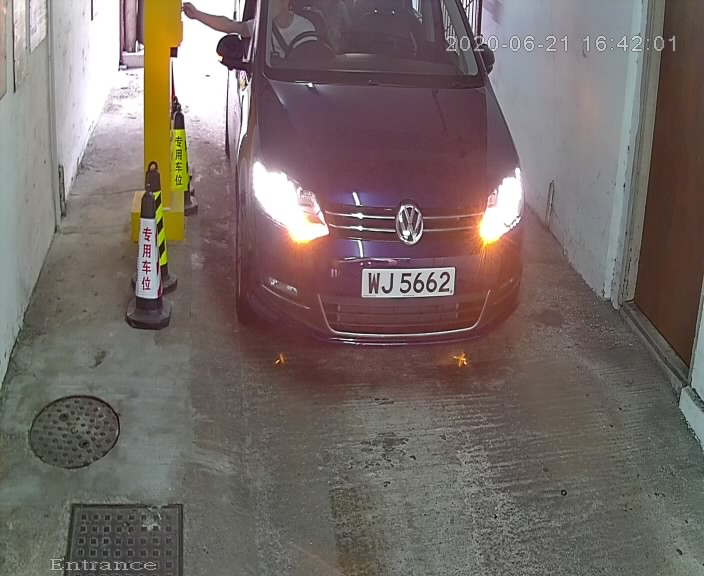privatecar: (197, 1, 552, 403)
